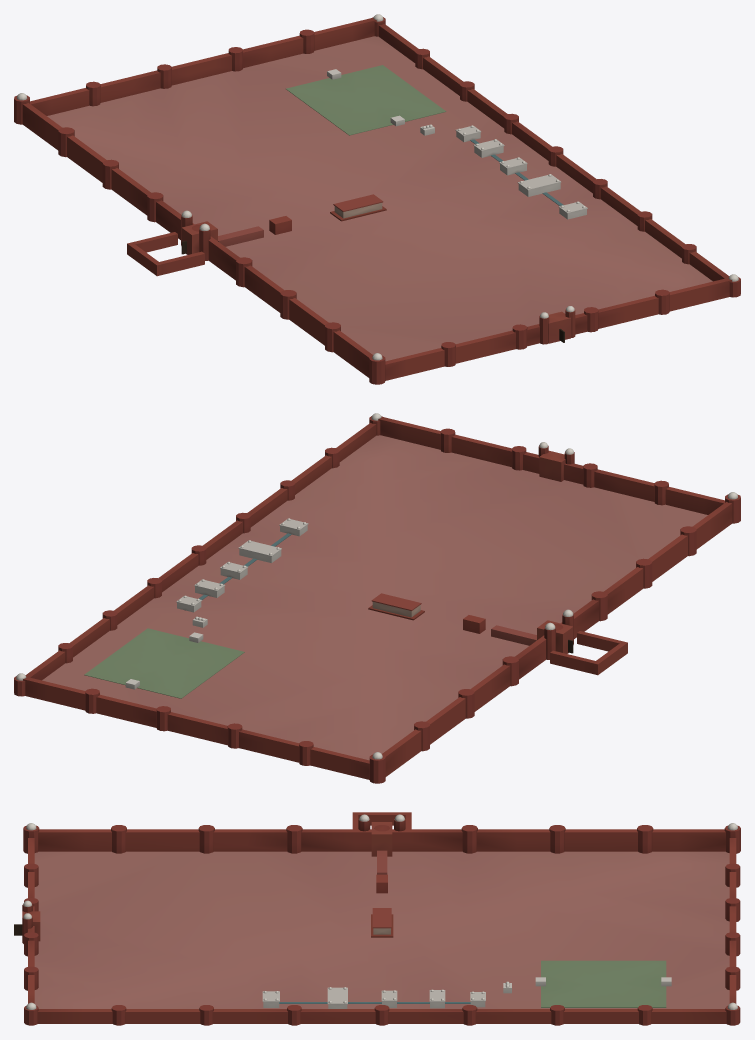
File: red-fort.glb
3 views of the same model, one above another, from view 1: azimuth 30°, elevation 25°; view 2: azimuth 150°, elevation 25°; view 3: azimuth 270°, elevation 25° (orthographic).
Visible parts, largest first — view 1: p0_walls, p2_palaces, p1_gates; view 2: p0_walls, p2_palaces, p1_gates; view 3: p0_walls, p2_palaces, p1_gates.
Part boxes in pixels (x1,y1,x2,y2): p0_walls: (14,14,740,384); p2_palaces: (218,65,587,246); p1_gates: (127,210,575,344); p0_walls: (14,413,740,783); p2_palaces: (84,518,536,698); p1_gates: (537,442,627,675); p0_walls: (23,823,740,1025); p2_palaces: (262,850,671,1008); p1_gates: (14,812,411,943).
Bounding box in the file's own units: 649 × 51.01 × 984.
